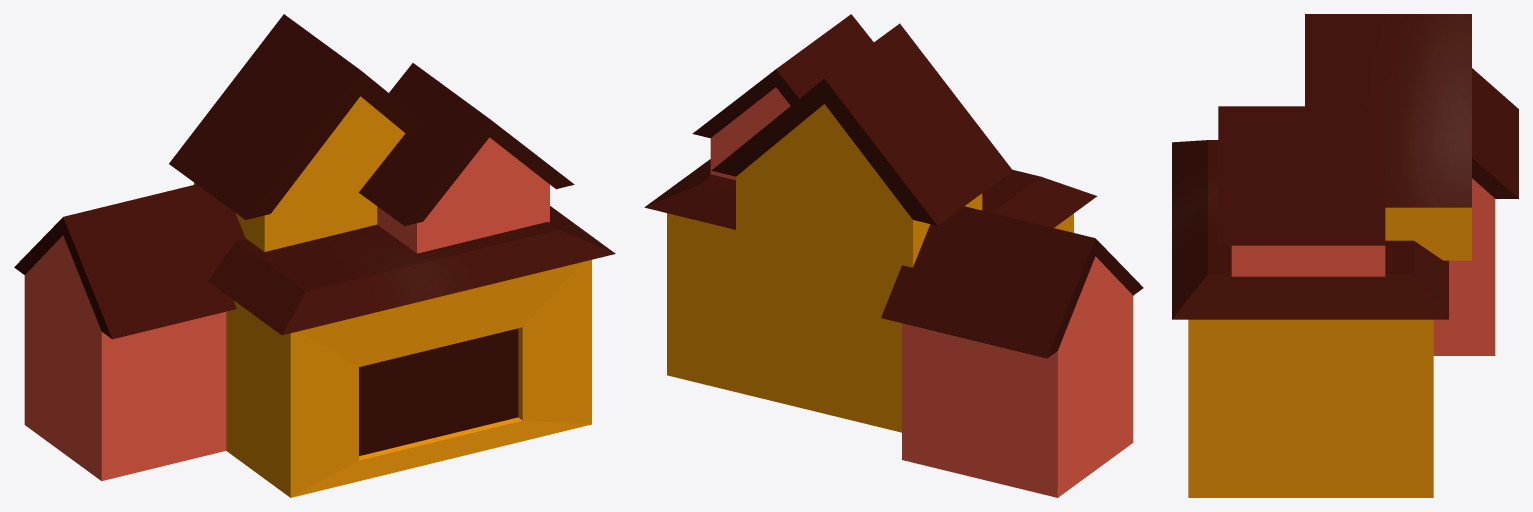
Rendered from house 1.fbx.
3 renders of one model, left to right at view 1: azimuth 30°, elevation 25°; view 2: azimuth 150°, elevation 25°; view 3: azimuth 270°, elevation 25°, orthographic. The views are drawn at different scales.
Visible parts, largest first — view 1: Cube.047; view 2: Cube.047; view 3: Cube.047.
Part boxes in pixels (x1=…): Cube.047: x1=14, y1=14, x2=615, y2=497; Cube.047: x1=644, y1=14, x2=1143, y2=497; Cube.047: x1=1172, y1=14, x2=1518, y2=497.
Bounding box in the file's own units: 1325 × 1025 × 827.
1 material, 1 textured.
